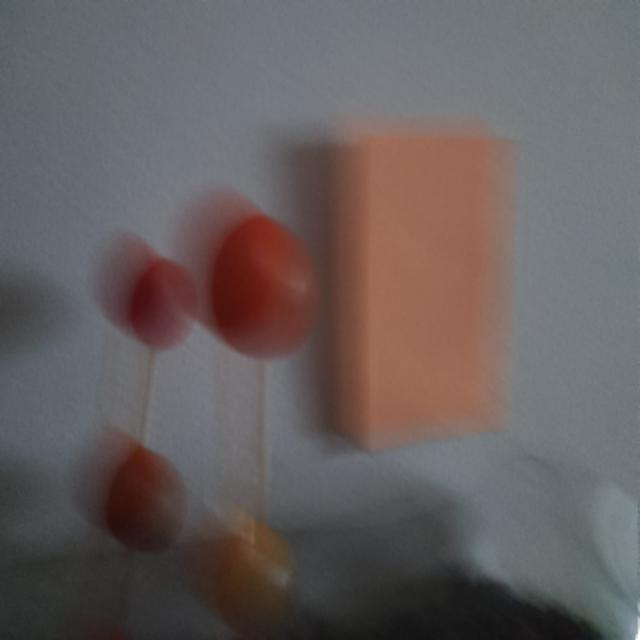card: (332, 126, 512, 449)
fruit_maturation: (209, 518, 296, 639)
fully_grown: (209, 202, 316, 357), (105, 417, 185, 550), (124, 253, 196, 352)
